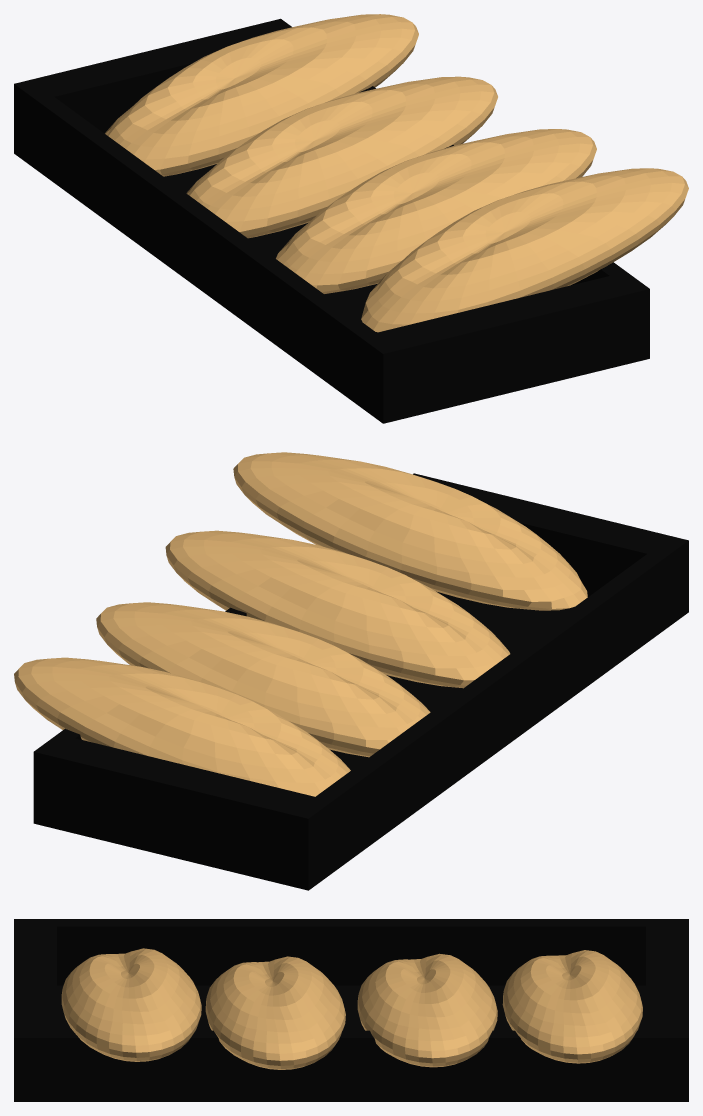
Rendered from BAGEA KENARI.fbx.
The picture shows the model from 3 angles, top to bottom: view 1: azimuth 30°, elevation 25°; view 2: azimuth 150°, elevation 25°; view 3: azimuth 270°, elevation 25°; orthographic projection. The views are drawn at different scales.
Parts seen in each view (by area): view 1: Cube, Sphere, Sphere.003, Sphere.002, Sphere.001; view 2: Cube, Sphere, Sphere.001, Sphere.002, Sphere.003; view 3: Cube, Sphere, Sphere.003, Sphere.001, Sphere.002.
Part boxes in pixels (<box>): Cube: <box>14,18,649,423</box>; Sphere: <box>361,168,688,332</box>; Sphere.003: <box>105,14,418,176</box>; Sphere.002: <box>186,76,497,238</box>; Sphere.001: <box>276,129,596,293</box>; Cube: <box>33,473,688,890</box>; Sphere: <box>233,452,587,610</box>; Sphere.001: <box>165,530,510,688</box>; Sphere.002: <box>96,602,430,757</box>; Sphere.003: <box>14,657,350,796</box>; Cube: <box>14,919,688,1101</box>; Sphere: <box>61,948,201,1061</box>; Sphere.003: <box>502,950,642,1063</box>; Sphere.001: <box>205,956,345,1069</box>; Sphere.002: <box>357,953,497,1067</box>.
Bounding box in the file's own units: 97.9 × 30.52 × 169.
